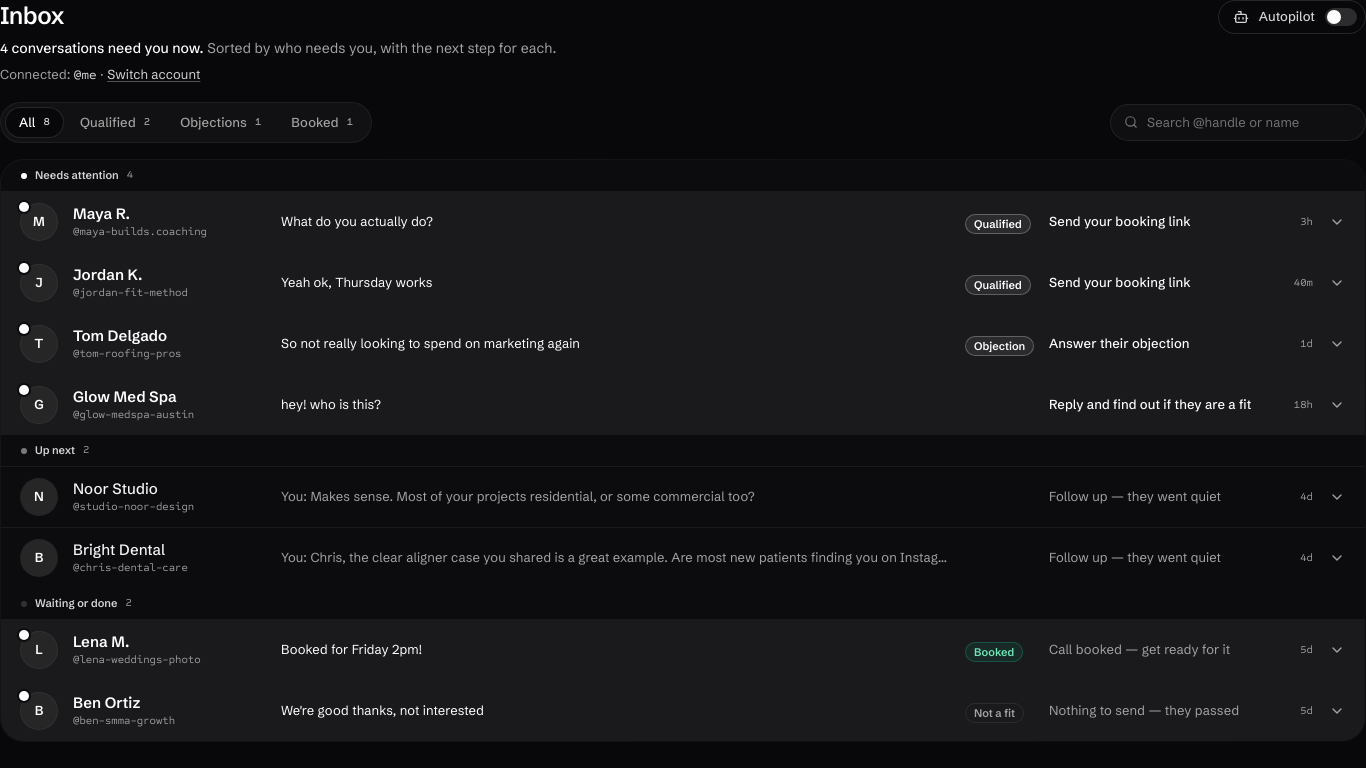
InboxView › waits to be asked for conversations that are not owed a reply
Click the button "@studio-noor-design". click: coordinates (683, 497)
box: [1,467,1365,527]
(page scrolled)
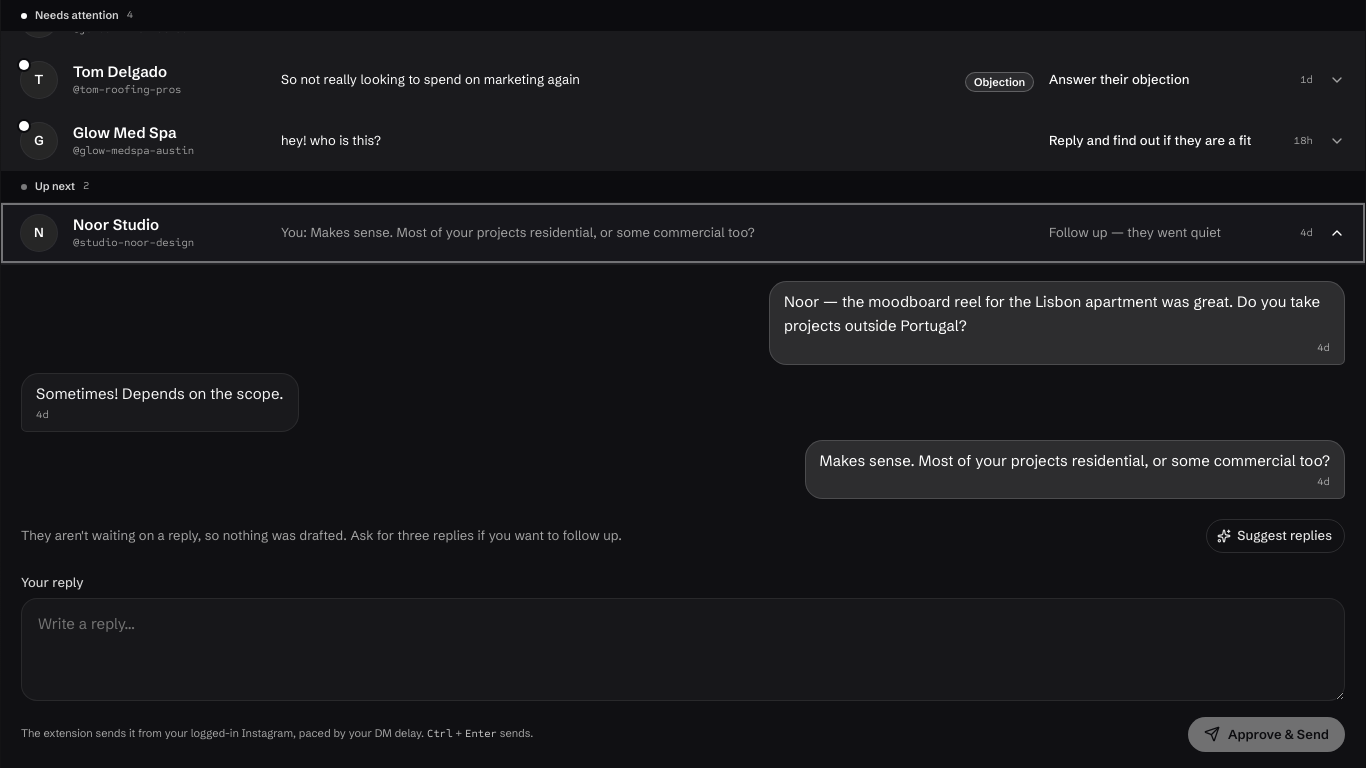
Now the button "Suggest replies" is shown, box [1206,519,1345,552]
